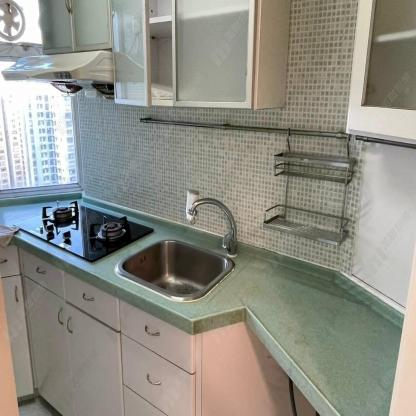Cupboard: (14, 245, 197, 415), (111, 2, 250, 107)
Exhaust Hood: (2, 49, 115, 99)
Faucet: (181, 176, 243, 259)
Sink: (121, 240, 233, 297)
Stove: (15, 199, 156, 261)
